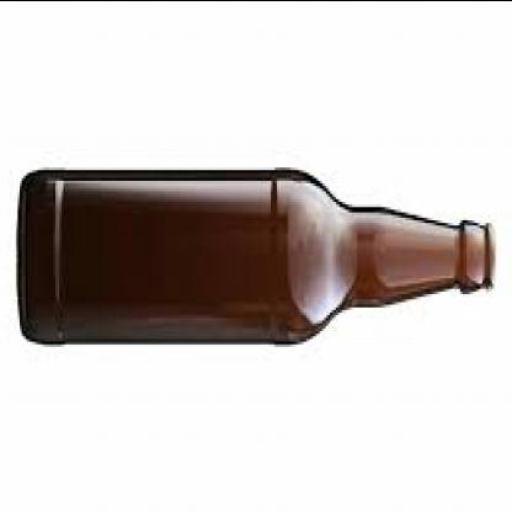glass: (20, 164, 498, 341)
